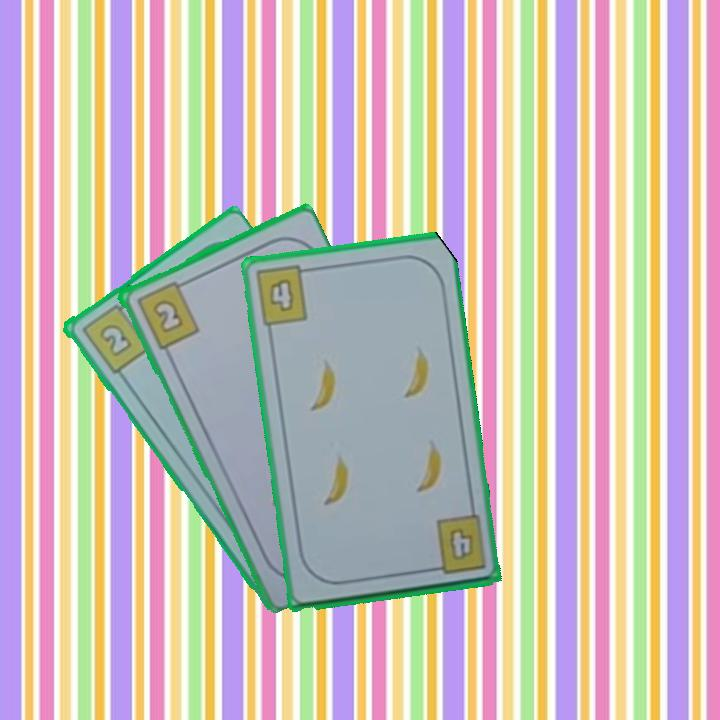2b: (77, 298, 151, 377), (132, 276, 202, 352)
4b: (424, 512, 489, 578), (251, 262, 315, 329)
